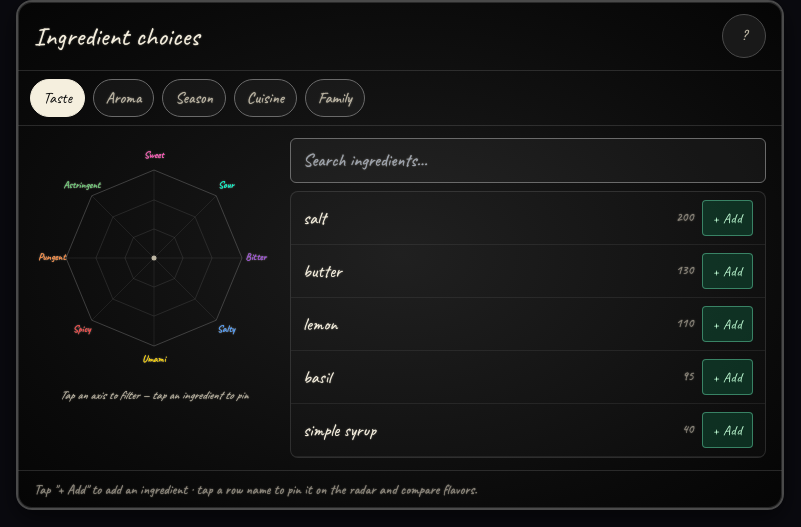
IngredientPicker › notebook mode: row tap PINS to radar (does not commit yet)
Click the button with test id "picker-row-basil" at (317, 376), box [303,364,694,390]
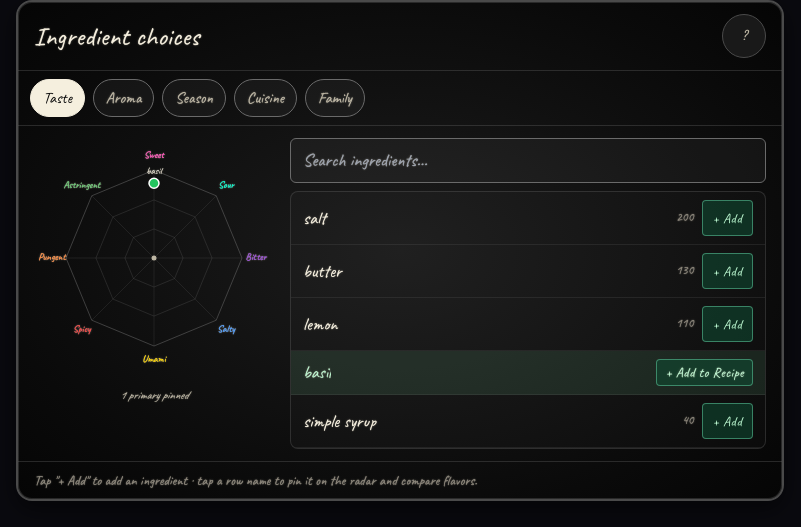
Expected: the button with test id "picker-commit-basil" is shown, [291,351,765,395]
